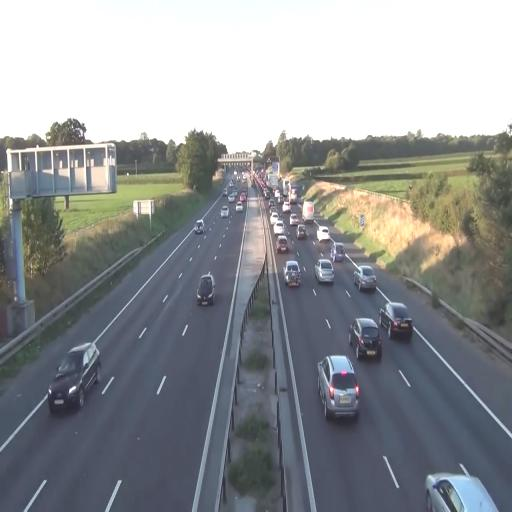vehicle: (47, 341, 102, 414), (48, 342, 102, 414), (425, 466, 499, 512), (316, 352, 360, 420), (320, 370, 360, 421), (349, 317, 382, 361), (380, 301, 414, 343), (353, 265, 377, 293), (197, 272, 215, 306), (314, 258, 335, 285), (284, 260, 302, 288), (276, 236, 292, 254), (195, 220, 205, 235), (219, 205, 229, 219)
